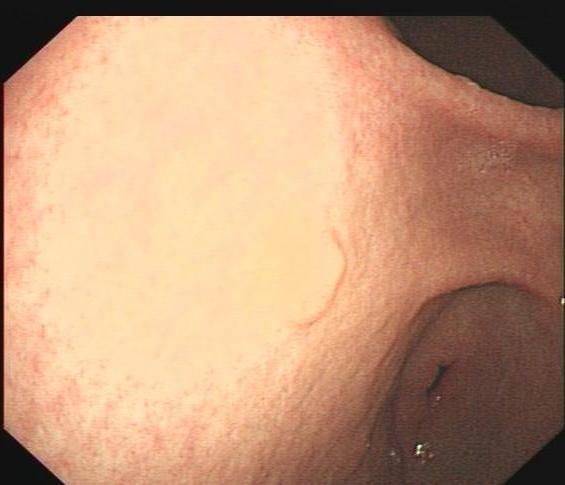Polyp: (274, 225, 353, 330)
